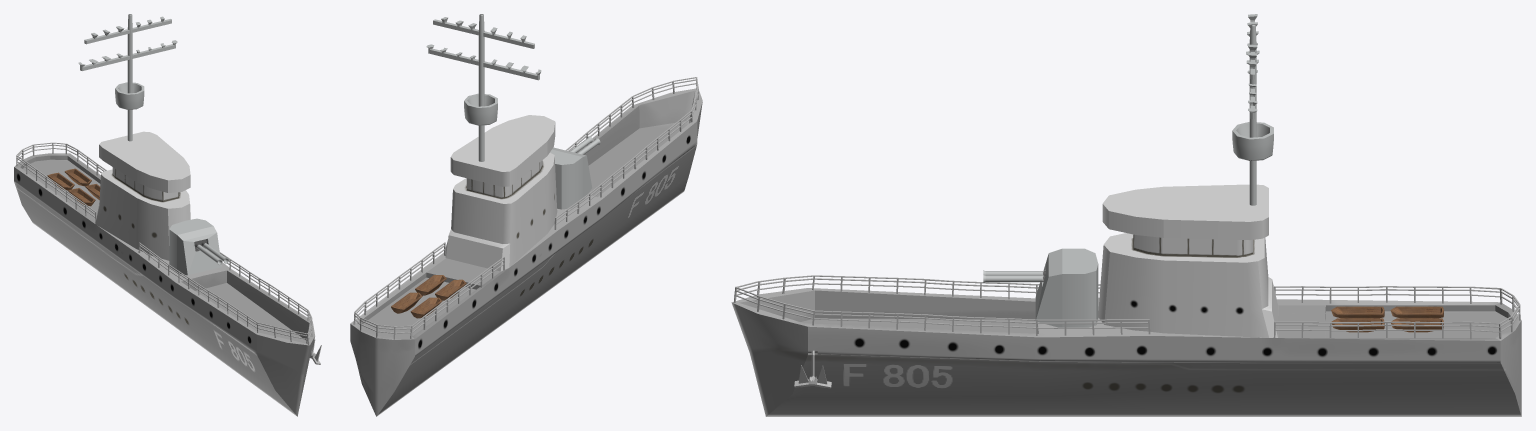
Rendered from M_Speijk1940_Export.fbx.
3 views of the same model, side by side, from view 1: azimuth 30°, elevation 25°; view 2: azimuth 150°, elevation 25°; view 3: azimuth 270°, elevation 25° (orthographic). The views are drawn at different scales.
Parts seen in each view (by area): view 1: Hull, Kabine, Boat1_Canon, uitkijktoren, Hek_voor, Hek_achter; view 2: Hull, Kabine, uitkijktoren, Hek_voor, Boat1_Canon, Hek_achter, roeiboot4, roeiboot, roeiboot3, roeiboot2; view 3: Hull, Kabine, Hek_voor, Boat1_Canon, Hek_achter, uitkijktoren.
Boxes of the visible parts, x1,y1,x2,y2 form: Hull: [14, 153, 314, 416]; Kabine: [95, 131, 190, 260]; Boat1_Canon: [169, 218, 228, 275]; uitkijktoren: [78, 14, 177, 141]; Hek_voor: [138, 242, 312, 344]; Hek_achter: [16, 142, 106, 222]; Hull: [350, 88, 702, 416]; Kabine: [445, 115, 557, 271]; uitkijktoren: [426, 14, 541, 161]; Hek_voor: [554, 77, 698, 229]; Boat1_Canon: [550, 136, 600, 209]; Hek_achter: [353, 242, 504, 339]; roeiboot4: [391, 292, 422, 313]; roeiboot: [415, 275, 446, 295]; roeiboot3: [410, 297, 442, 318]; roeiboot2: [435, 279, 466, 300]; Hull: [731, 288, 1521, 416]; Kabine: [1098, 184, 1277, 337]; Hek_voor: [733, 275, 1150, 335]; Boat1_Canon: [983, 248, 1098, 327]; Hek_achter: [1273, 286, 1520, 339]; uitkijktoren: [1232, 14, 1273, 205].
Bounding box in the file's own units: 17.53 × 47.33 × 85.96.
Materials: 7 (7 with a texture image).
